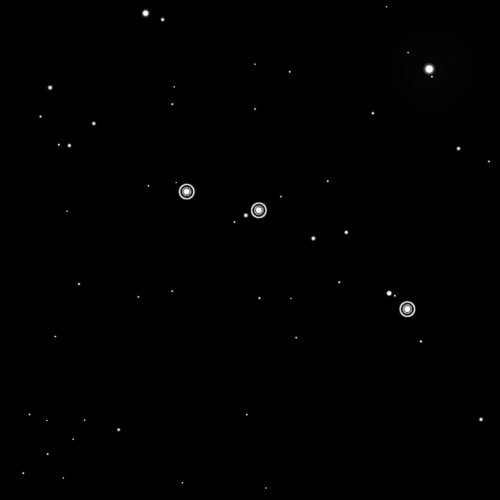vulpecula: (172, 177, 420, 322)
